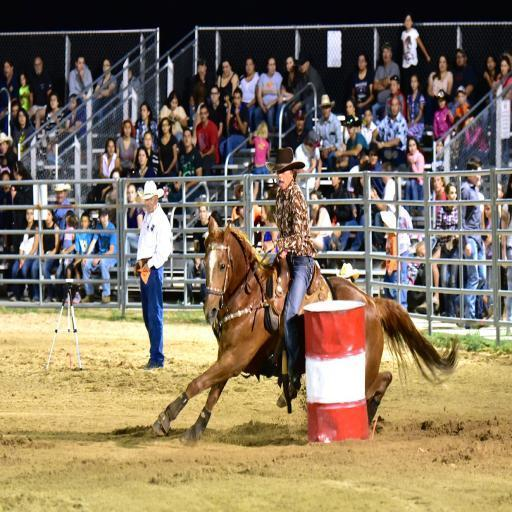horse: (149, 210, 463, 448)
